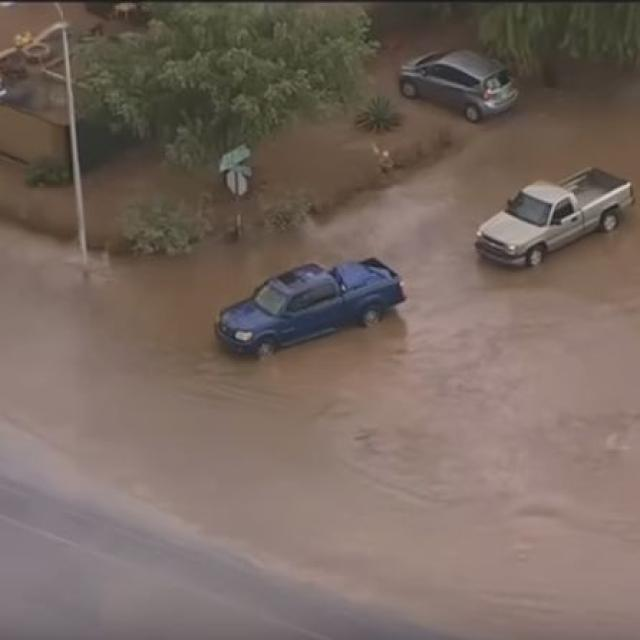flooded_areas: (70, 78, 633, 620)
